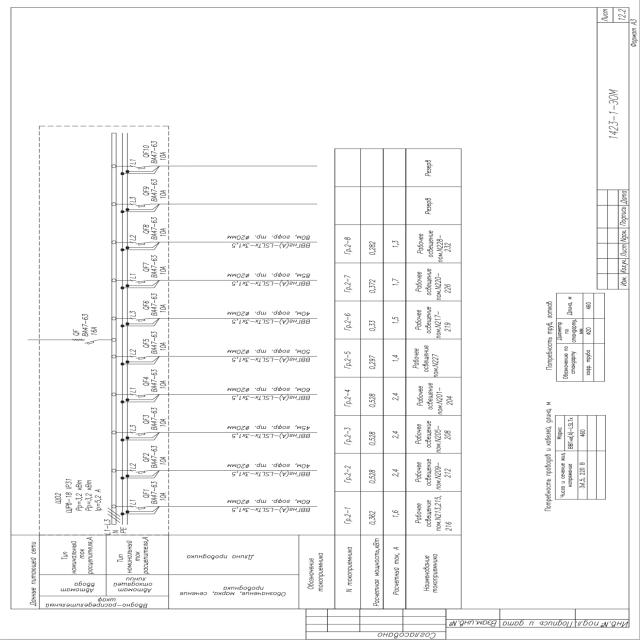-: (150, 406, 168, 431), (80, 313, 98, 337), (150, 445, 168, 469), (149, 140, 167, 164), (150, 292, 168, 316), (149, 255, 167, 279), (150, 368, 168, 392), (150, 481, 168, 505), (149, 332, 167, 356), (150, 178, 168, 202), (149, 217, 167, 240), (64, 478, 74, 514)
QF: (71, 338, 99, 345), (128, 240, 150, 247), (129, 504, 151, 510), (130, 164, 152, 170), (130, 203, 152, 209), (127, 278, 149, 284), (128, 316, 150, 322), (128, 354, 150, 360), (129, 392, 151, 398), (129, 431, 151, 437), (128, 468, 150, 474)
